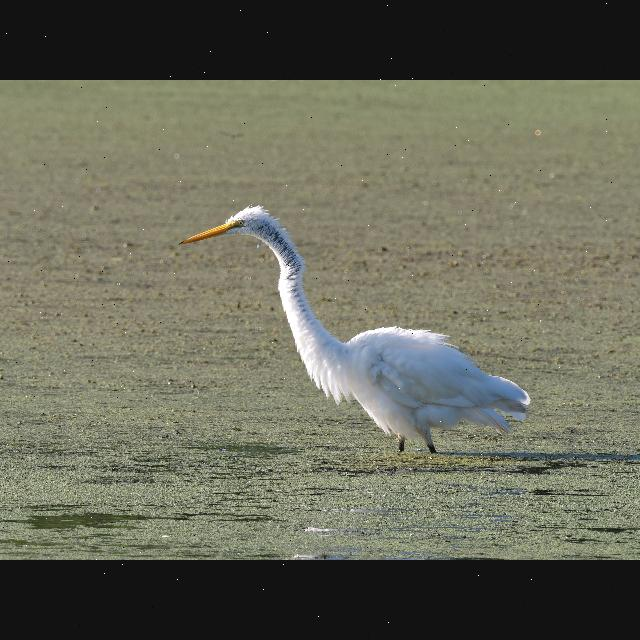egret: (176, 194, 524, 456)
